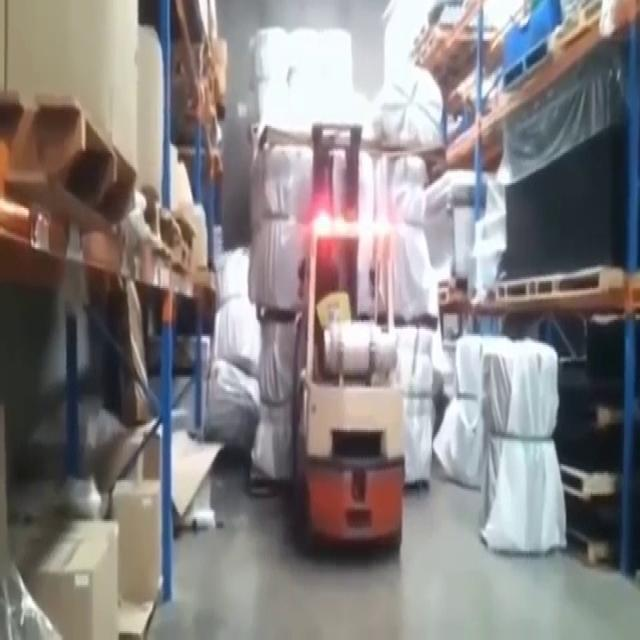forklift: (286, 194, 419, 571)
